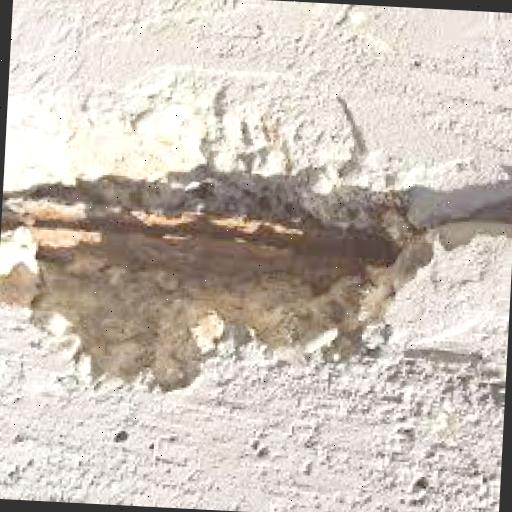spalling: (2, 138, 421, 385)
